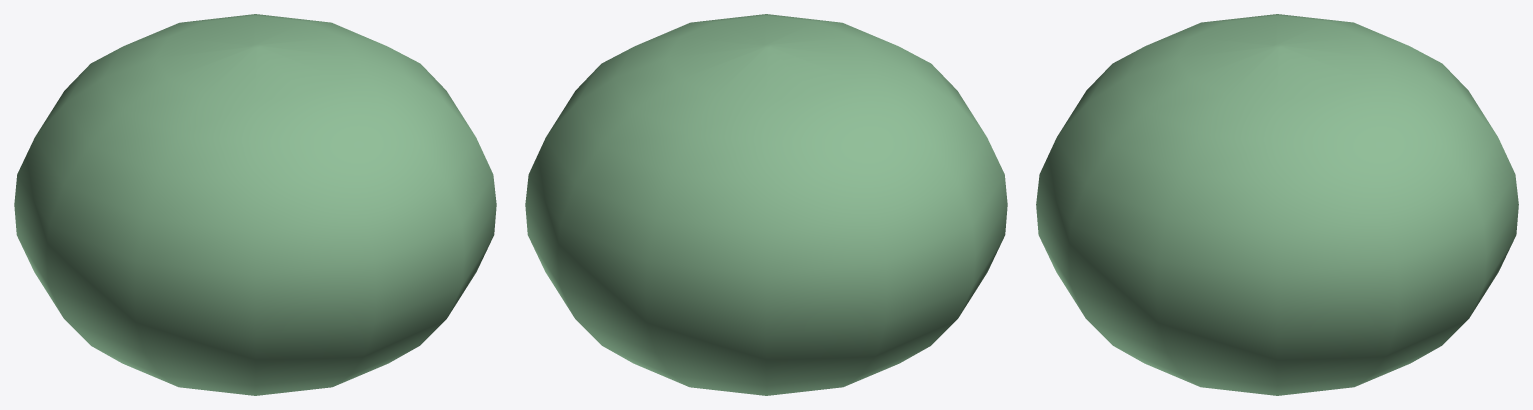
The model's file is Prickly_Pear_Cactus_Analytical_0.obj.
3 views of the same model, side by side, from view 1: azimuth 30°, elevation 25°; view 2: azimuth 150°, elevation 25°; view 3: azimuth 270°, elevation 25° (orthographic).
Visible parts, largest first — view 1: AnalyticalCrown; view 2: AnalyticalCrown; view 3: AnalyticalCrown.
Part boxes in pixels (box(x1,y1,x2,y2)): AnalyticalCrown: box(14, 14, 496, 395); AnalyticalCrown: box(525, 14, 1007, 395); AnalyticalCrown: box(1036, 14, 1518, 395).
Bounding box in the file's own units: 0.98 × 0.75 × 0.98.
